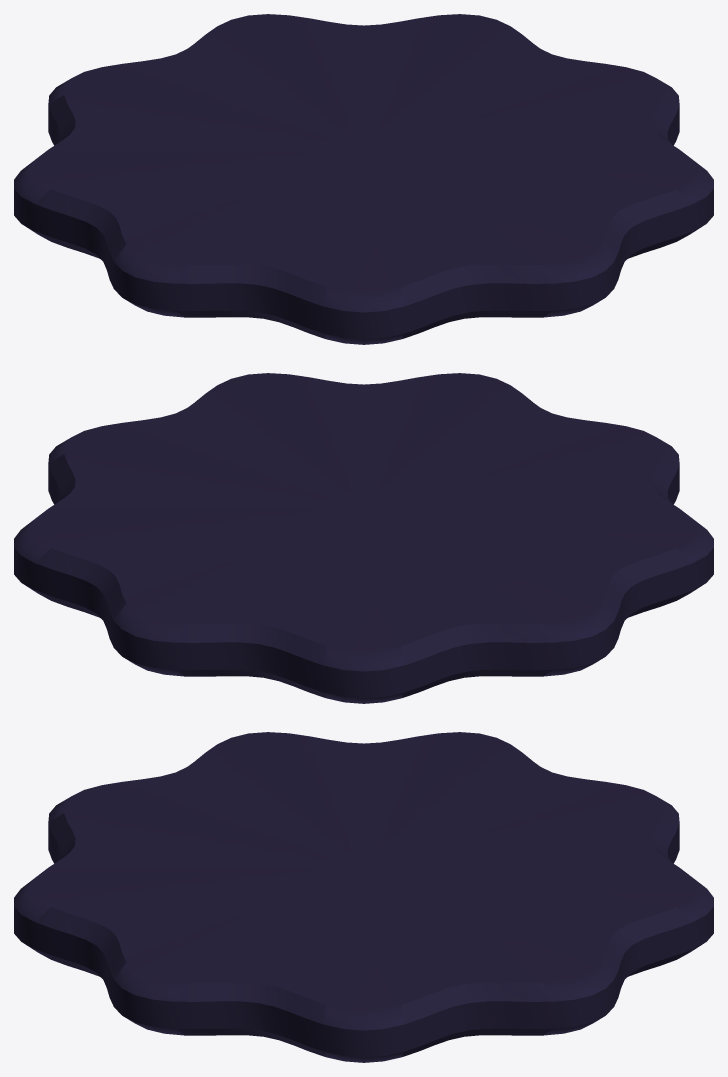
The model's file is Tsuba.obj.
3 views of the same model, one above another, from view 1: azimuth 30°, elevation 25°; view 2: azimuth 150°, elevation 25°; view 3: azimuth 270°, elevation 25° (orthographic).
Parts seen in each view (by area): view 1: Tsuba; view 2: Tsuba; view 3: Tsuba.
Part boxes in pixels (bbox=[...]): Tsuba: bbox=[14, 14, 713, 344]; Tsuba: bbox=[14, 373, 713, 703]; Tsuba: bbox=[14, 732, 713, 1062].
Bounding box in the file's own units: 0.8344 × 0.07 × 0.843.
